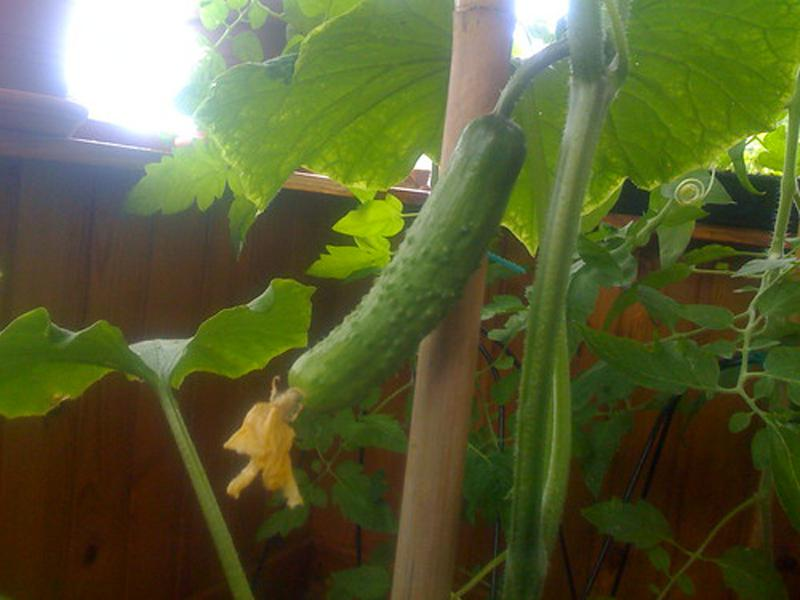Cucumber: (220, 115, 524, 509)
